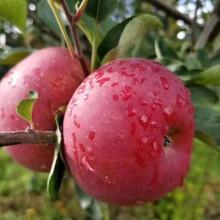apple: (58, 59, 195, 201), (1, 47, 88, 169)
